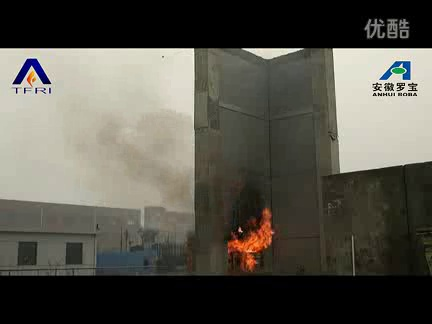fire: (224, 201, 275, 272)
